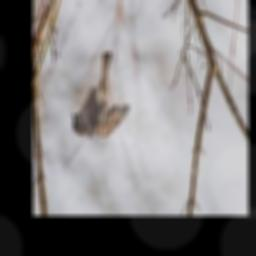Sparrow: (72, 53, 131, 138)
